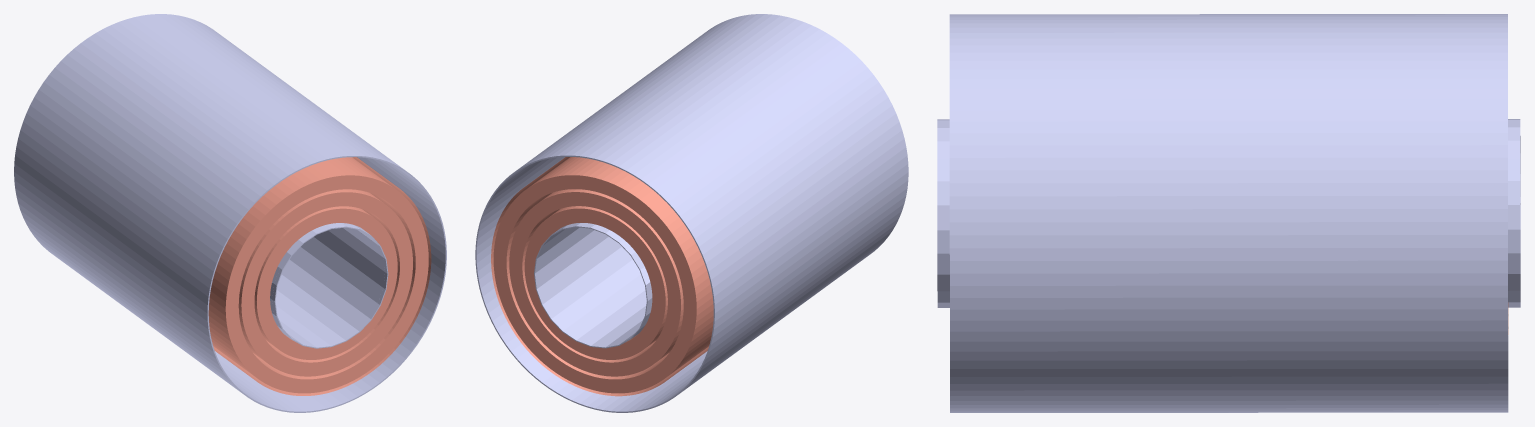
File: SCT-BAR.glb
3 renders of one model, left to right at view 1: azimuth 30°, elevation 25°; view 2: azimuth 150°, elevation 25°; view 3: azimuth 270°, elevation 25°, orthographic. The views are drawn at different scales.
Parts seen in each view (by area): view 1: null, Mesh_0.013; view 2: null, Mesh_0.013; view 3: null.
Part boxes in pixels (x1=…): null: x1=14, y1=14, x2=446, y2=412; Mesh_0.013: x1=208, y1=157, x2=431, y2=395; null: x1=475, y1=14, x2=908, y2=412; Mesh_0.013: x1=491, y1=157, x2=713, y2=396; null: x1=937, y1=14, x2=1520, y2=412.
Bounding box in the file's own units: 1.09 × 1.09 × 1.6.
